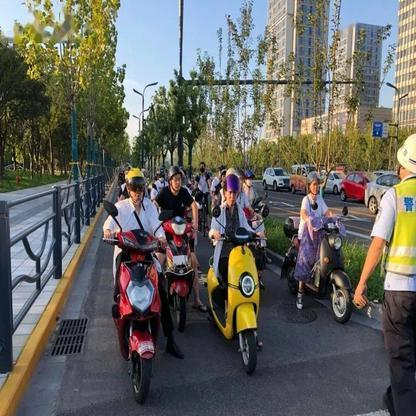target: (102, 166, 182, 405), (207, 167, 273, 374)
